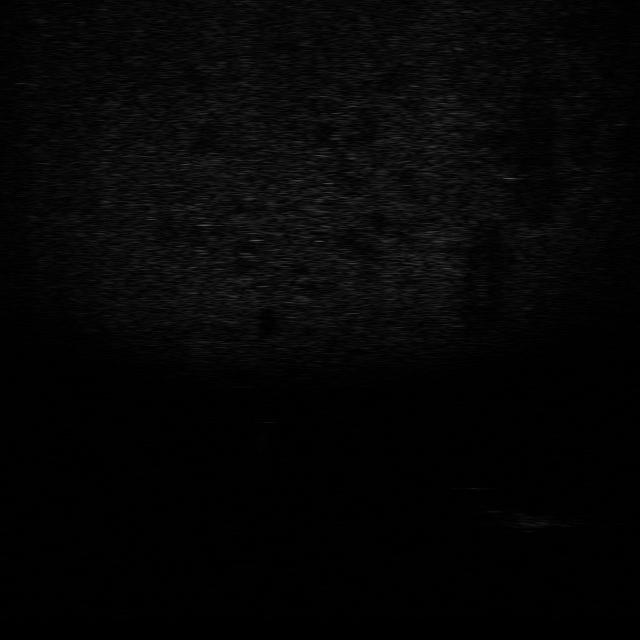ball: (250, 406, 282, 427)
metal bucket: (501, 506, 574, 534)
tyre: (460, 483, 509, 516)
